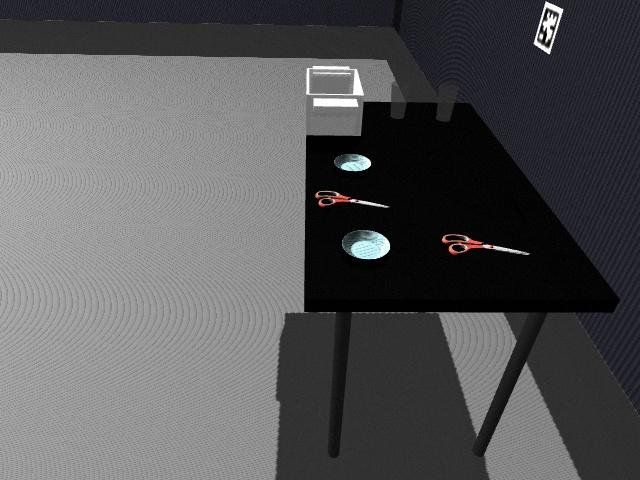cup: (435, 81, 460, 122), (389, 81, 407, 122)
plate: (341, 229, 392, 261), (334, 153, 371, 172)
scissors: (442, 232, 530, 258), (316, 190, 389, 210)
